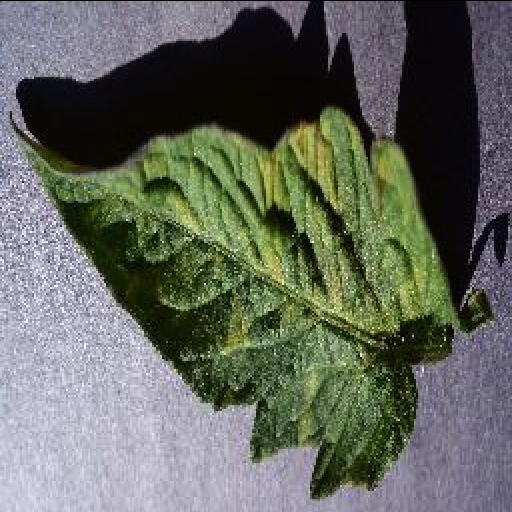disease_tomato: (4, 104, 456, 497)
